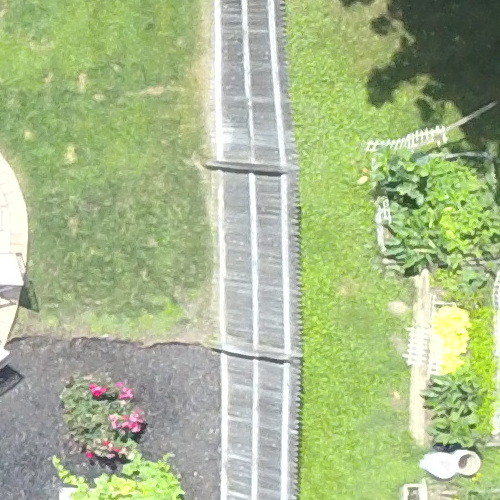container: (415, 441, 454, 483), (445, 447, 487, 478)
